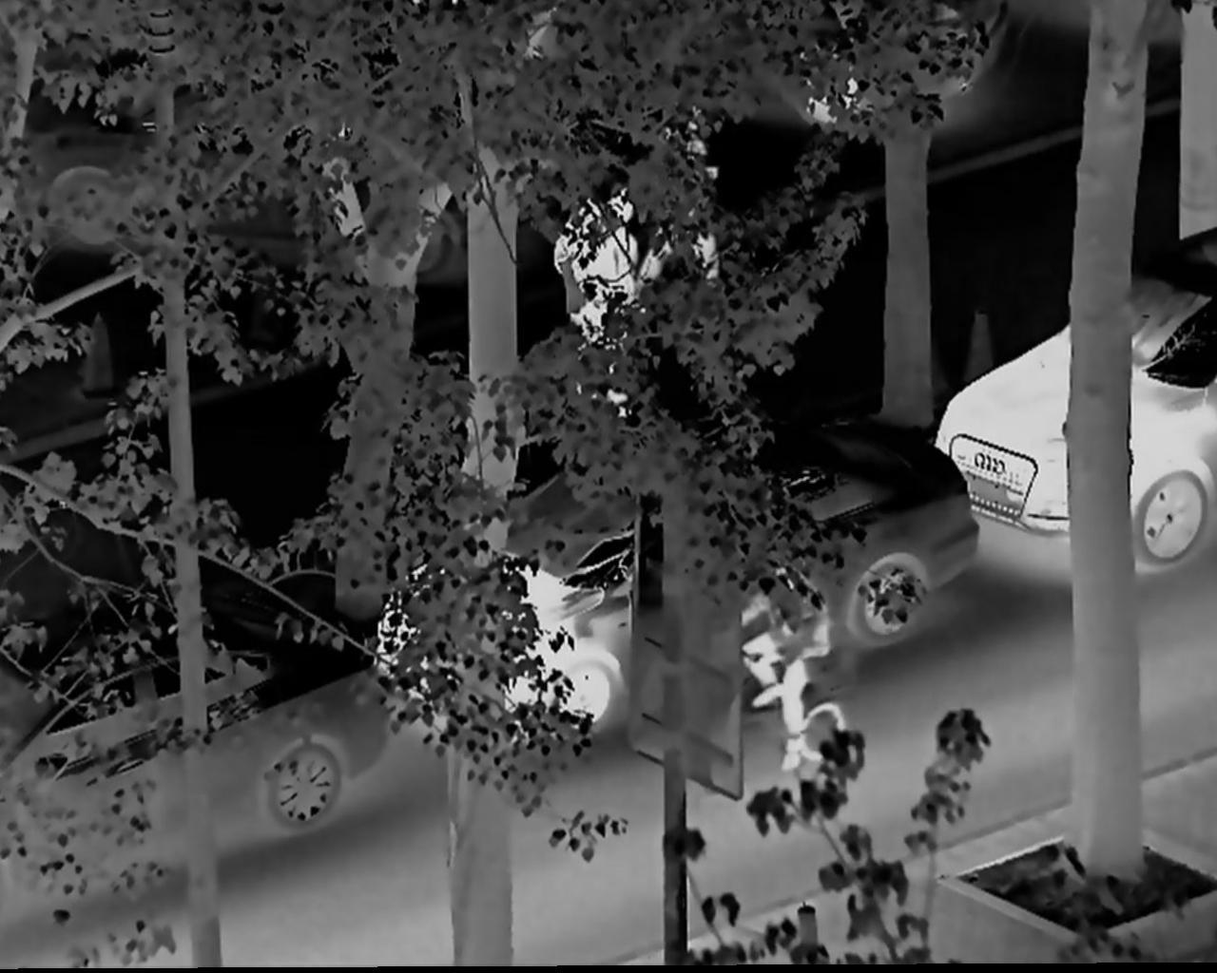person: (726, 553, 833, 753), (556, 183, 628, 381), (647, 135, 725, 288)
